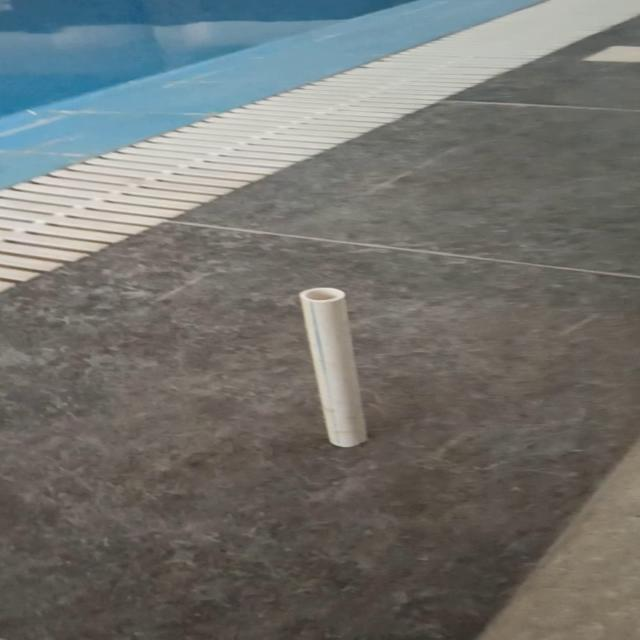Cube: (297, 286, 368, 448)
